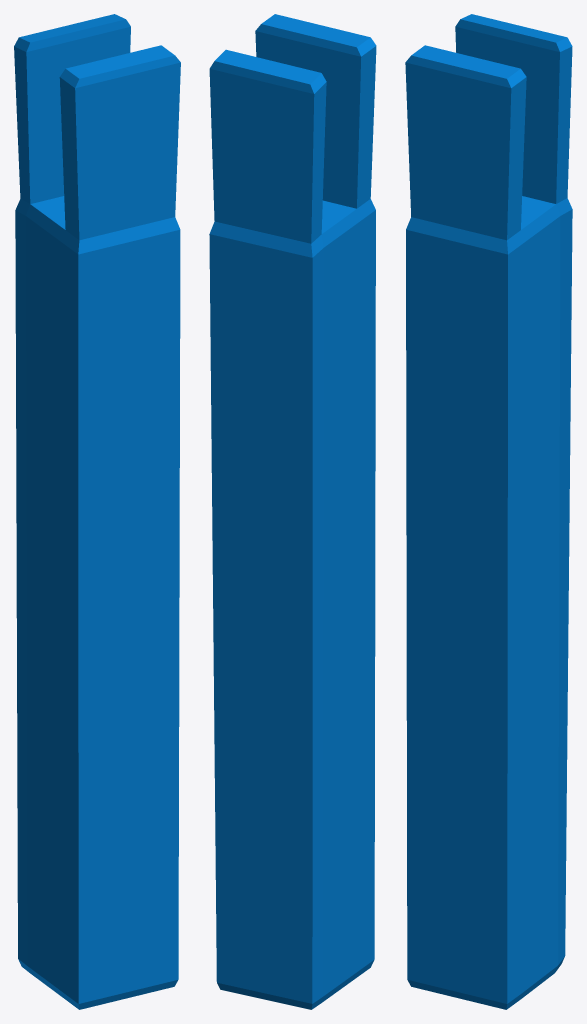
Rendered from Wood_Pillar_Mid_02.fbx.
3 renders of one model, left to right at view 1: azimuth 30°, elevation 25°; view 2: azimuth 150°, elevation 25°; view 3: azimuth 330°, elevation 25°, orthographic.
Visible parts, largest first — view 1: Wood_Pillar_Mid_02; view 2: Wood_Pillar_Mid_02; view 3: Wood_Pillar_Mid_02.
Boxes of the visible parts, bbox=[...] form: Wood_Pillar_Mid_02: bbox=[14, 14, 180, 1009]; Wood_Pillar_Mid_02: bbox=[209, 14, 376, 1009]; Wood_Pillar_Mid_02: bbox=[405, 14, 572, 1009].
Size of the model in its own units: 33.15 by 279 by 35.
